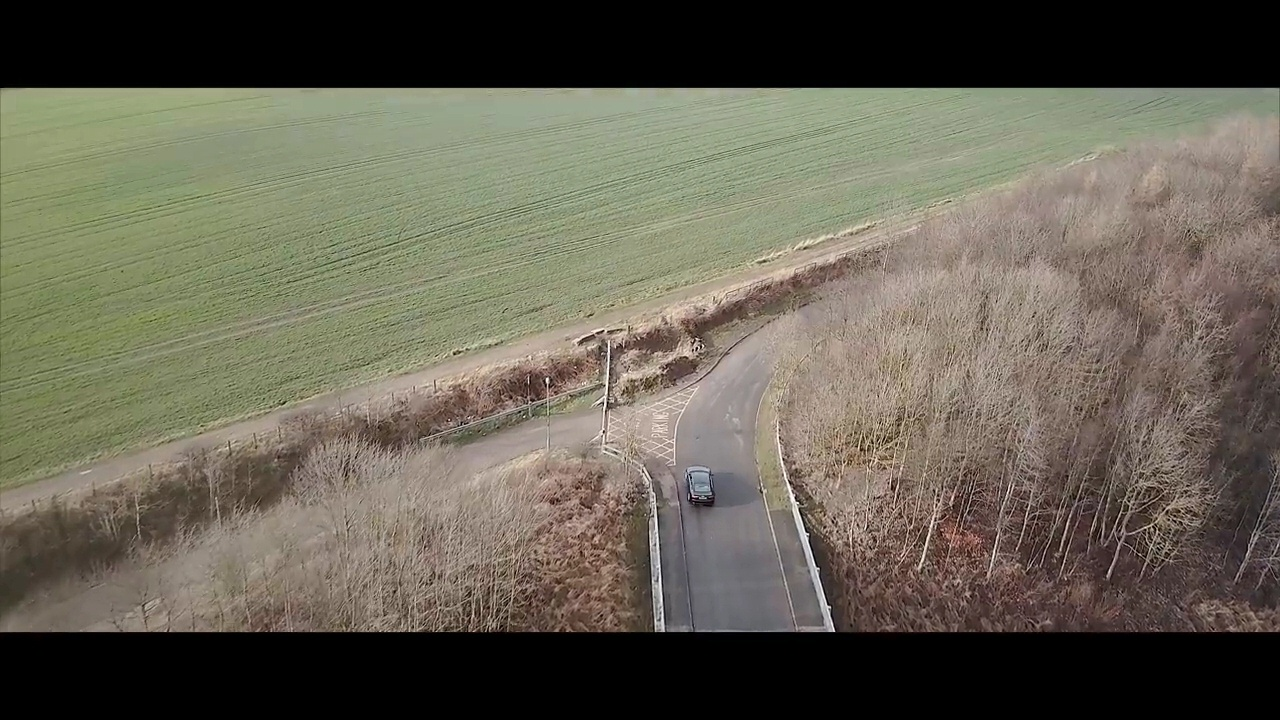araba: (683, 462, 720, 508)
